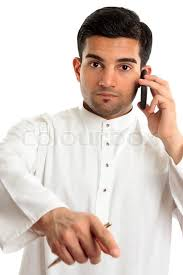middle_eastern_male: (78, 22, 141, 111)
